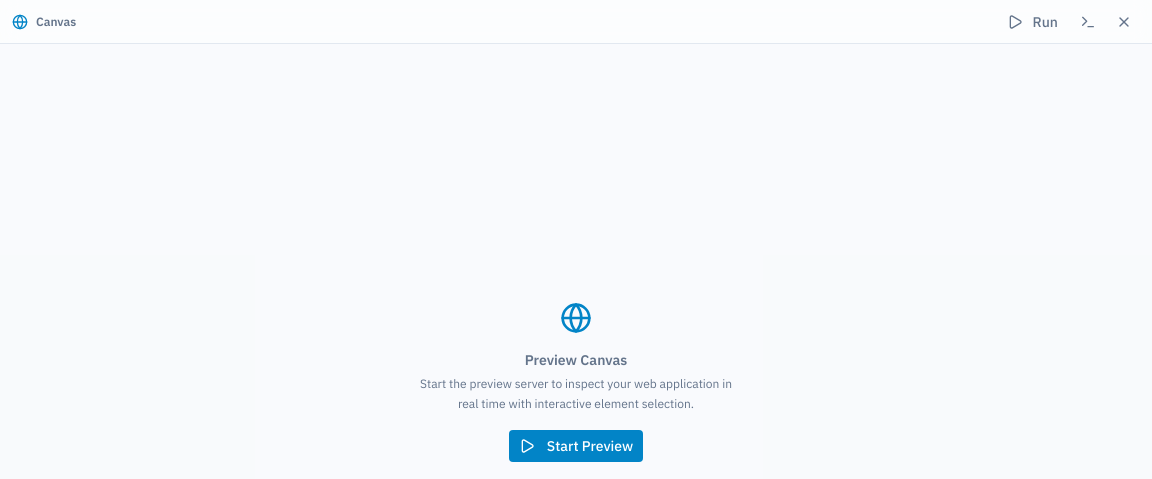
Scenario: WebPreview lifecycle › reports a server process that exits before becoming ready
Click the button "Start Preview".
click(576, 446)  # box [509,430,643,462]
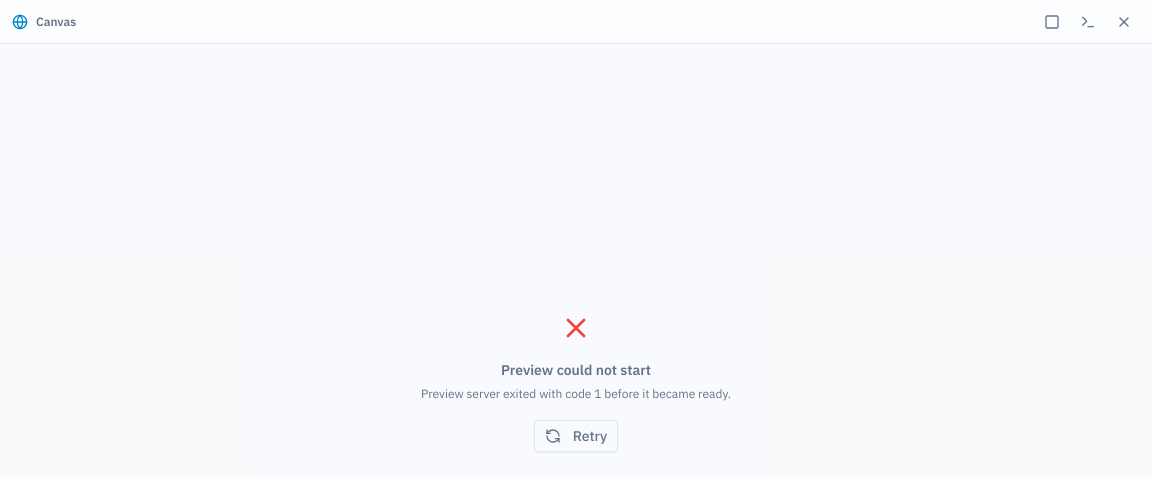
Expected: the text "Preview server exited with code 1 before it became ready." is shown, [421,384,731,404]
Expected: the heading "Preview could not start" is shown, [501,360,651,380]
